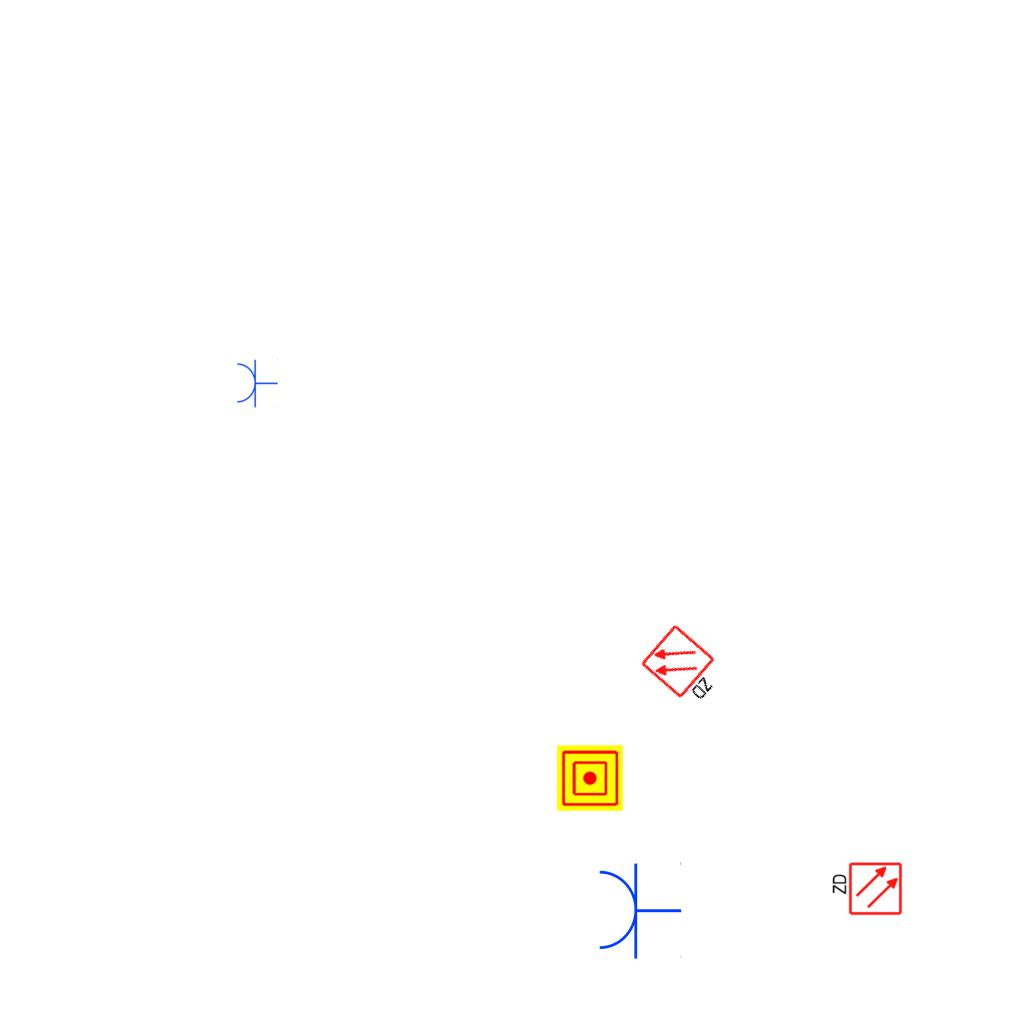NAM-Nichtautomatischer_Melder: (557, 745, 623, 811)
Schukosteckdose_einfach: (595, 860, 682, 960), (235, 358, 278, 408)
ZD_Melder_in_Zwischendecke_mit_Revisionsoeffnung_mind_40_x_40_cm: (638, 621, 733, 713), (829, 861, 903, 918)
